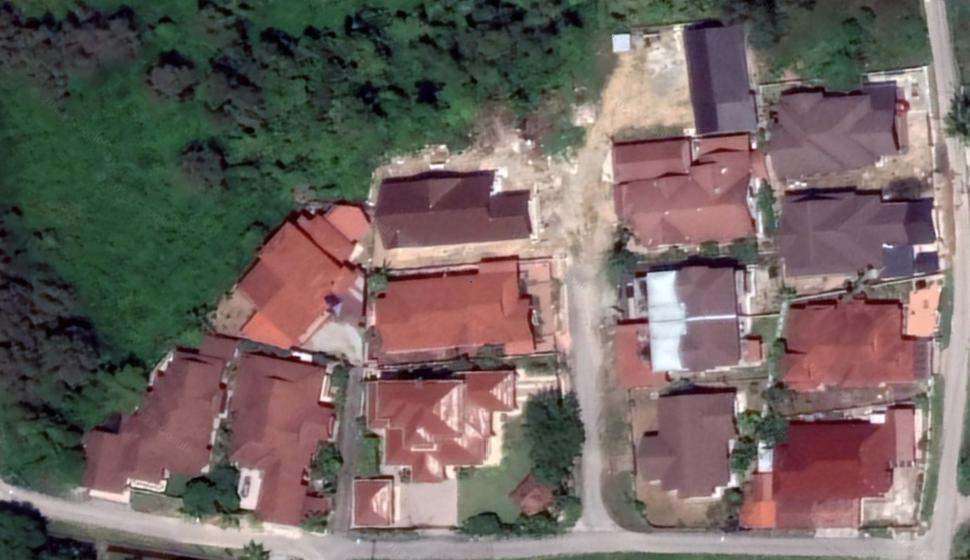building: (70, 328, 243, 512), (195, 191, 374, 353), (360, 245, 569, 373), (732, 395, 922, 535), (216, 347, 349, 535), (356, 364, 526, 489), (602, 132, 772, 257), (759, 72, 918, 193), (771, 289, 941, 398), (629, 379, 746, 510), (373, 164, 540, 255), (608, 312, 768, 396), (678, 15, 763, 137), (615, 261, 758, 319)
